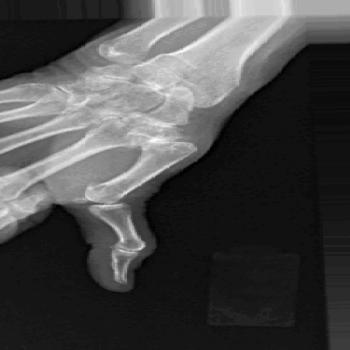Fracture: (75, 193, 143, 214)
